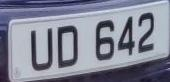2: (136, 9, 158, 57)
4: (116, 10, 138, 64)
6: (93, 15, 118, 69)
D: (55, 21, 83, 71)
U: (27, 25, 56, 74)
